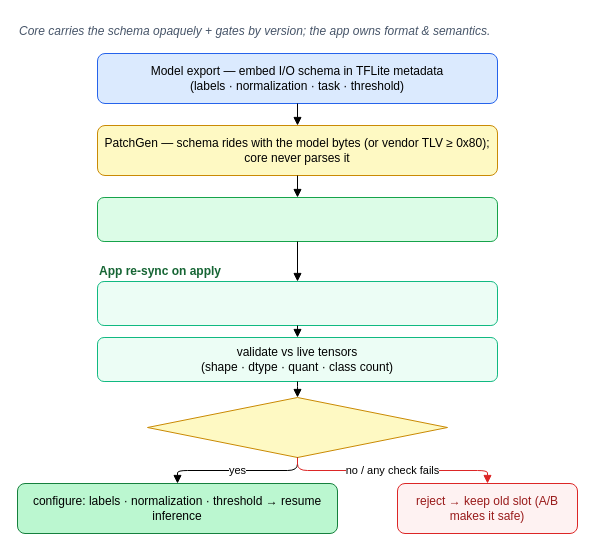
Some shapes in this 595 by 551 pixel diagram are drawn without their labels. The shapes that lost their labels are listed below. From the top down, each one's box as (x1, y1, x2, y2) in pixels, then its label:
(96, 196, 498, 242): Device — apply patch, atomic A/B flip (schema swaps with the weights)
(96, 280, 498, 326): load schema → version check (reject if newer than app supports)
(146, 396, 448, 458): pipeline can supply the input?
